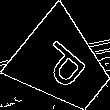P_SE: (33, 35, 94, 95)
